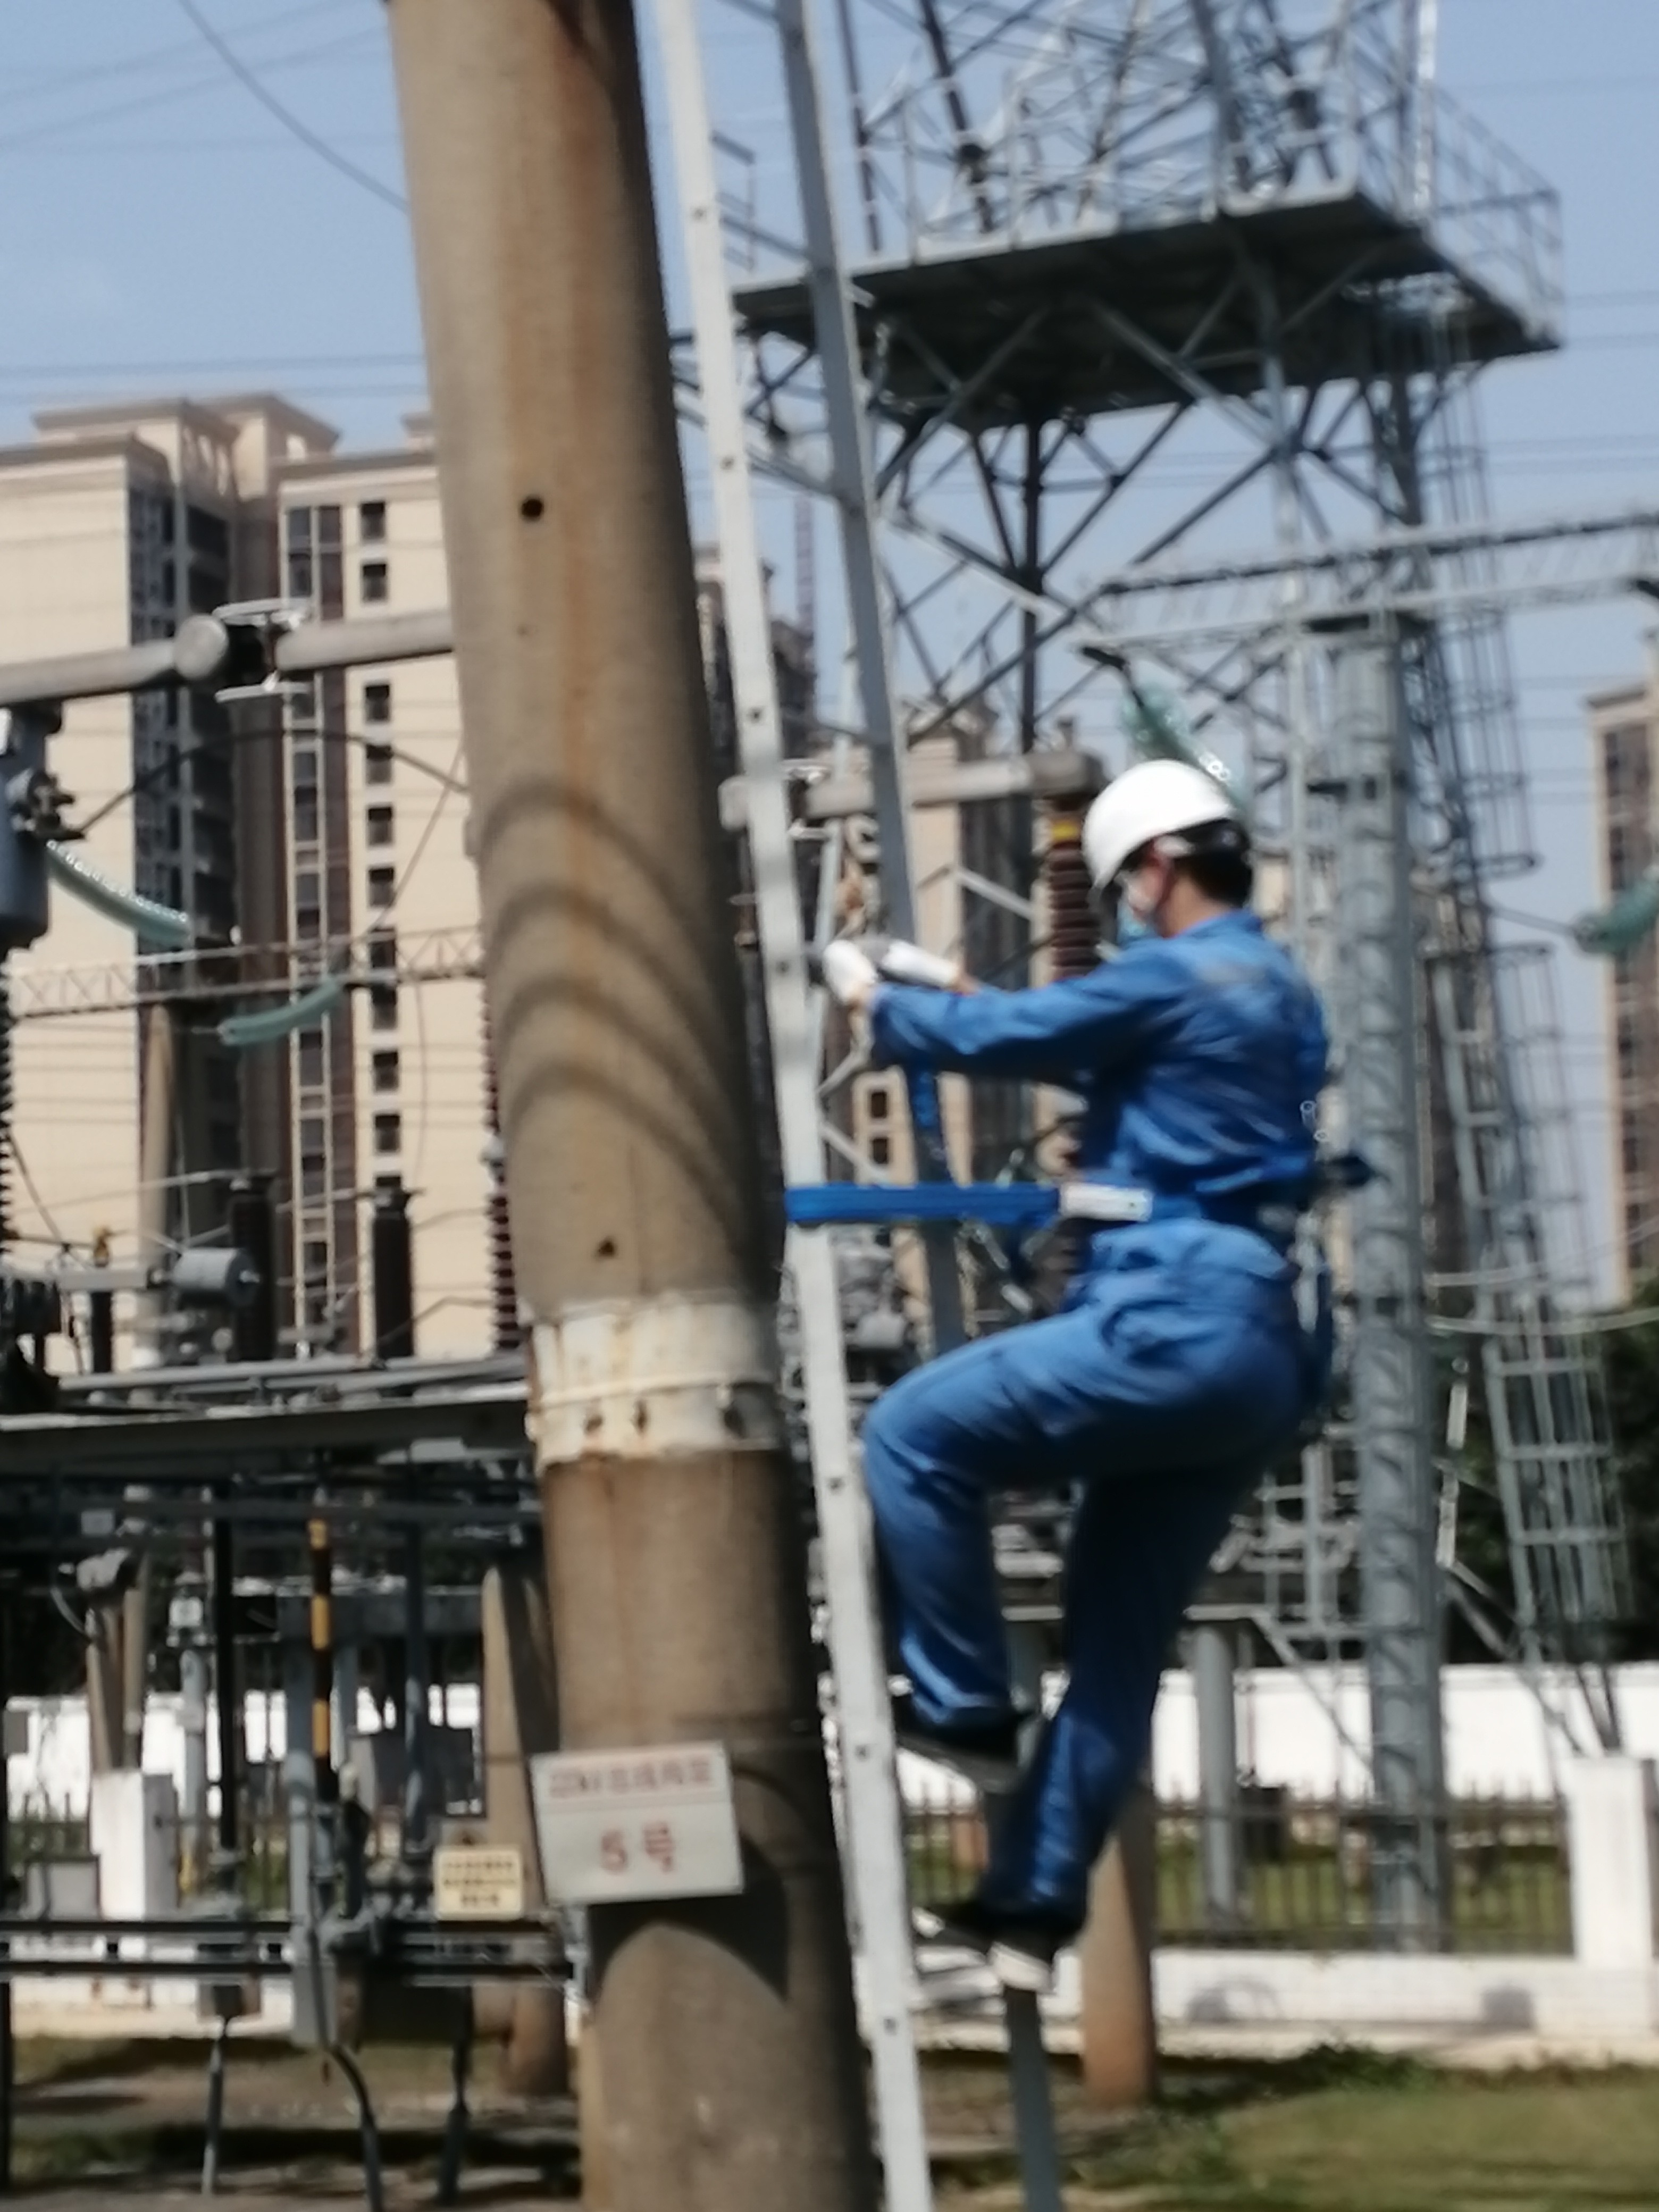downsuit: (856, 1270, 1330, 1897)
upsuit: (868, 909, 1363, 1256)
